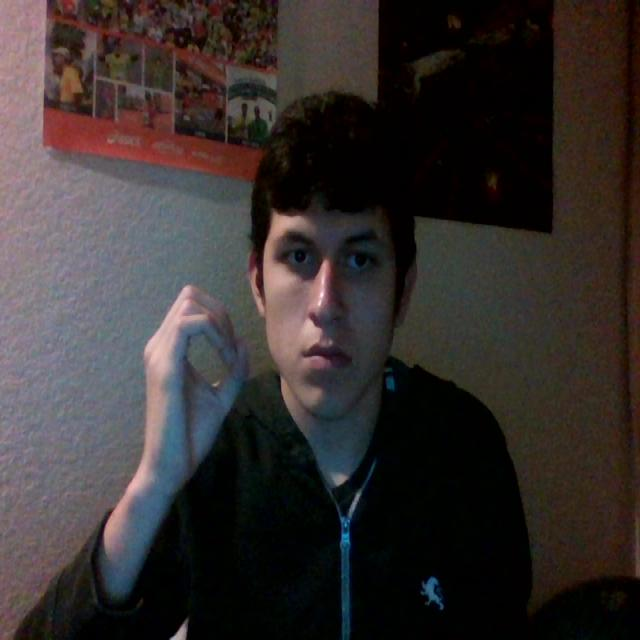O: (110, 258, 271, 529)
